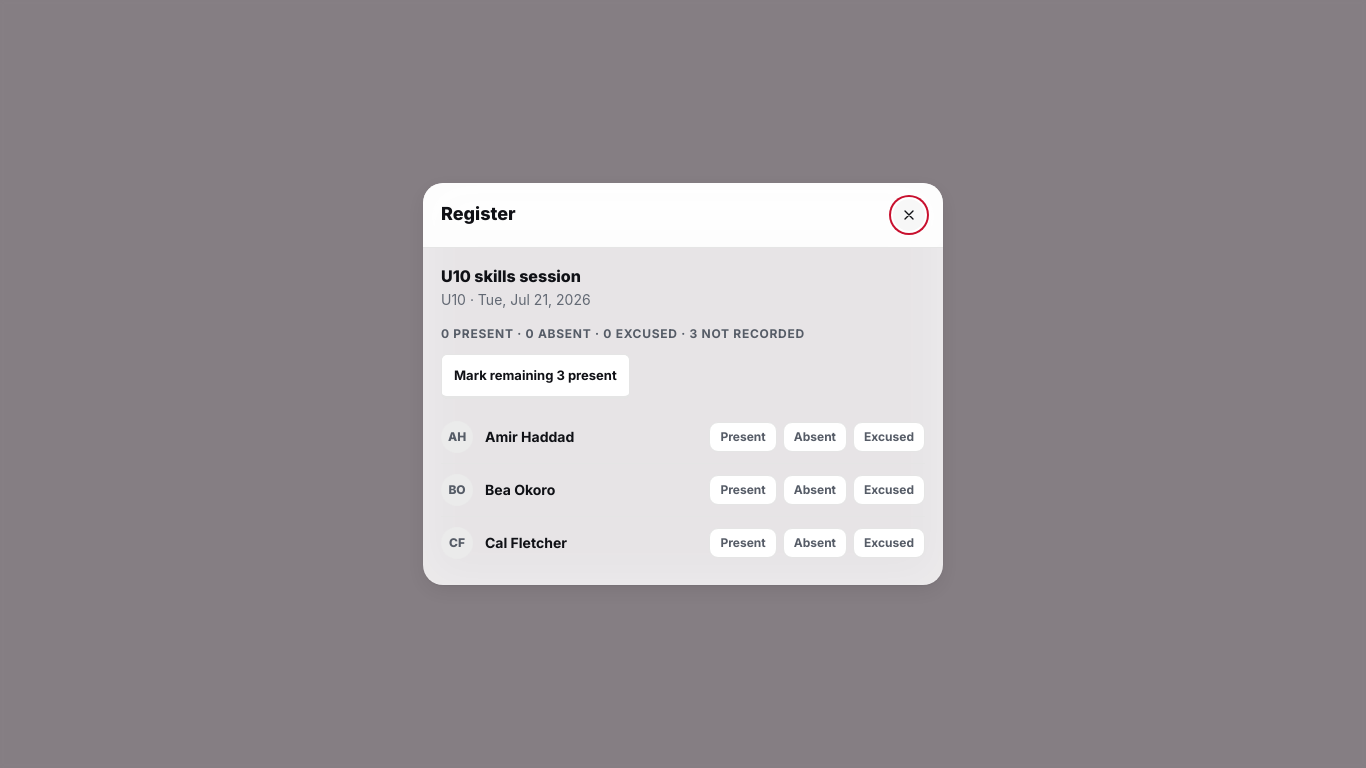
the register › surfaces a refusal instead of showing a status that was never saved
The image size is (1366, 768).
Click the button "Present" in the row of "AH" at (743, 437), box [710,422,777,452]
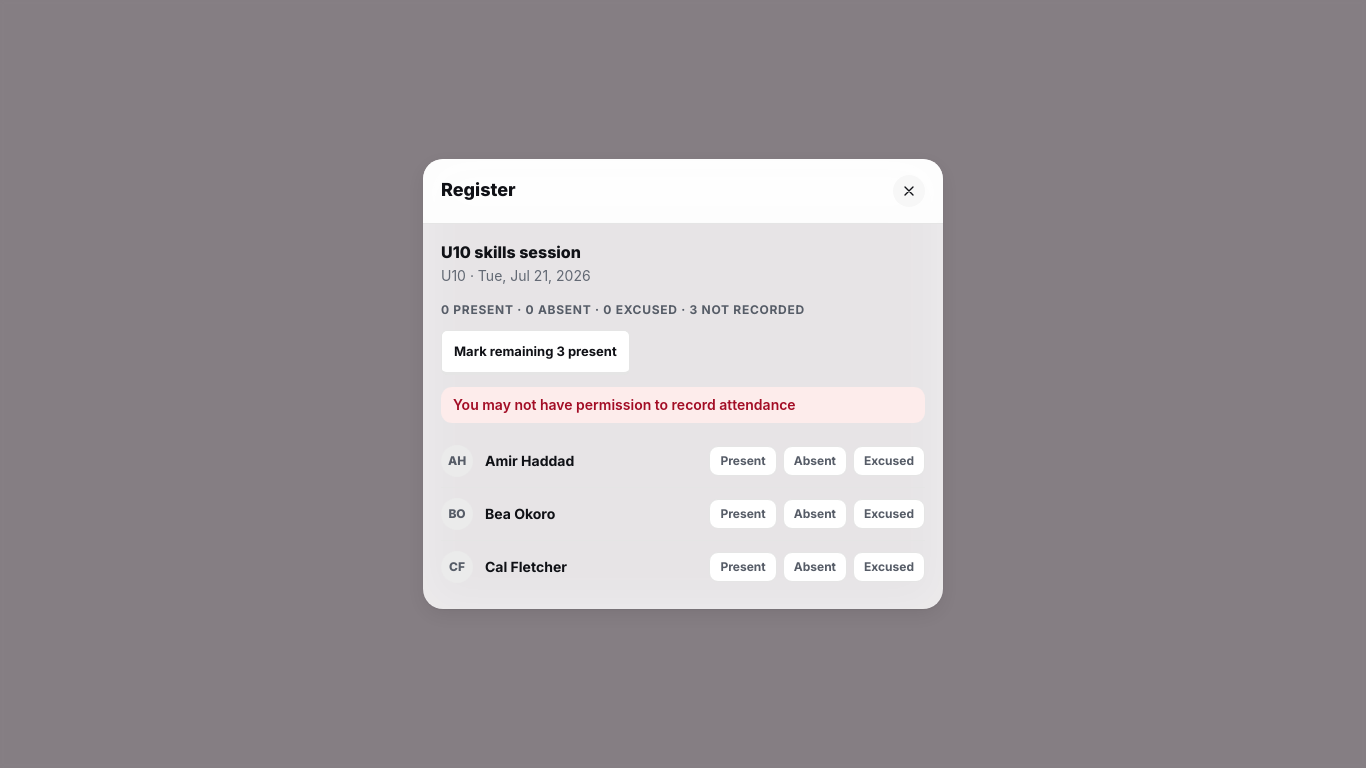
Expected: the message shows "permission to record attendance", [453,396,796,413]
